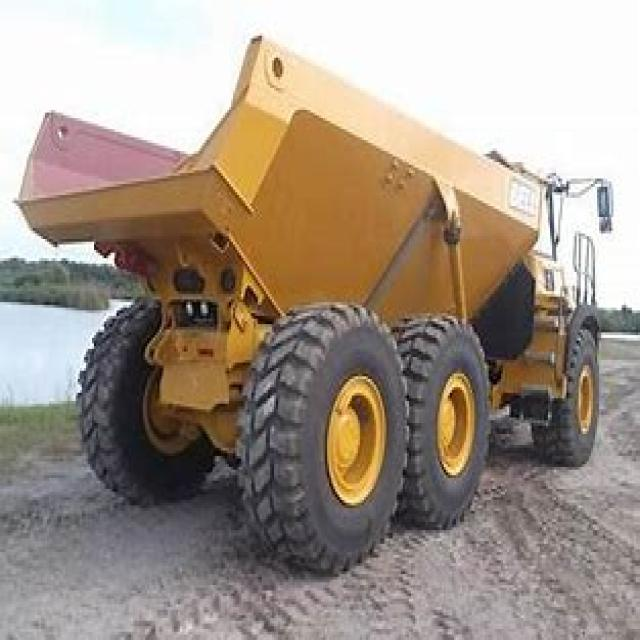dump_truck: (18, 30, 620, 563)
